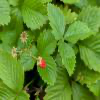Strawberry leaf: (57, 37, 78, 77), (46, 1, 67, 41), (64, 20, 94, 44)
